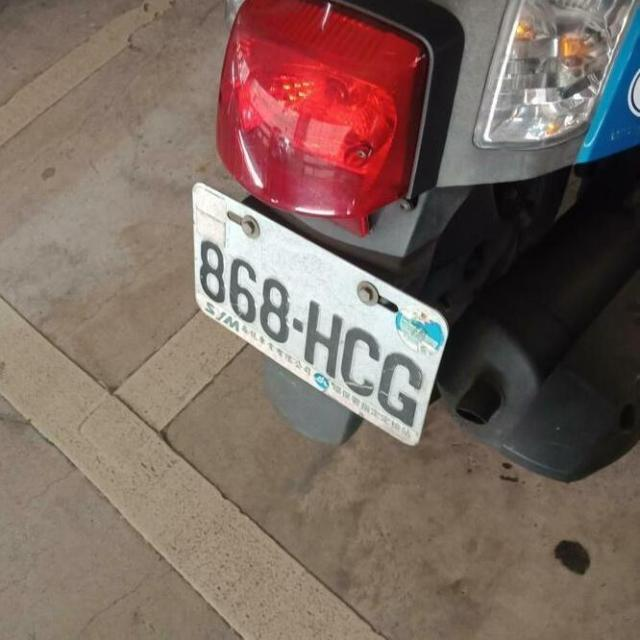W: (190, 181, 450, 450)
